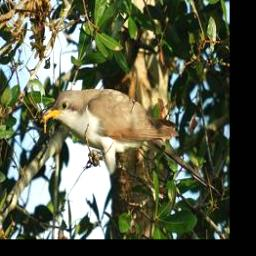Cuckoo: (39, 85, 181, 195)
